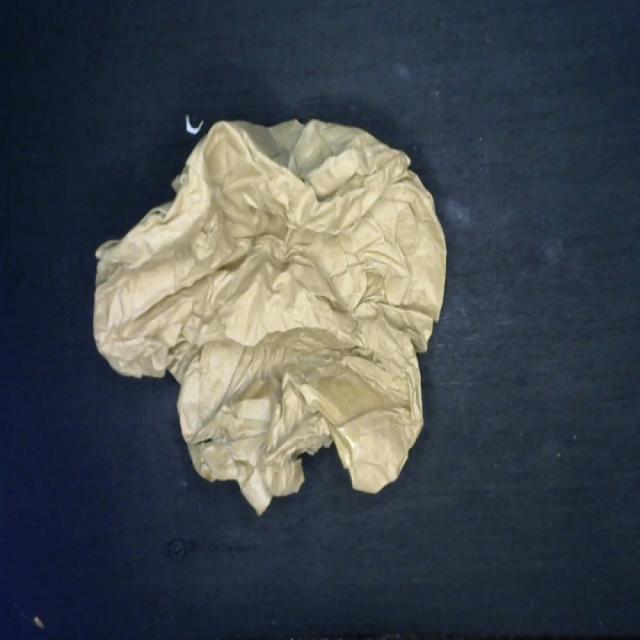biodegradable: (88, 111, 450, 520)
